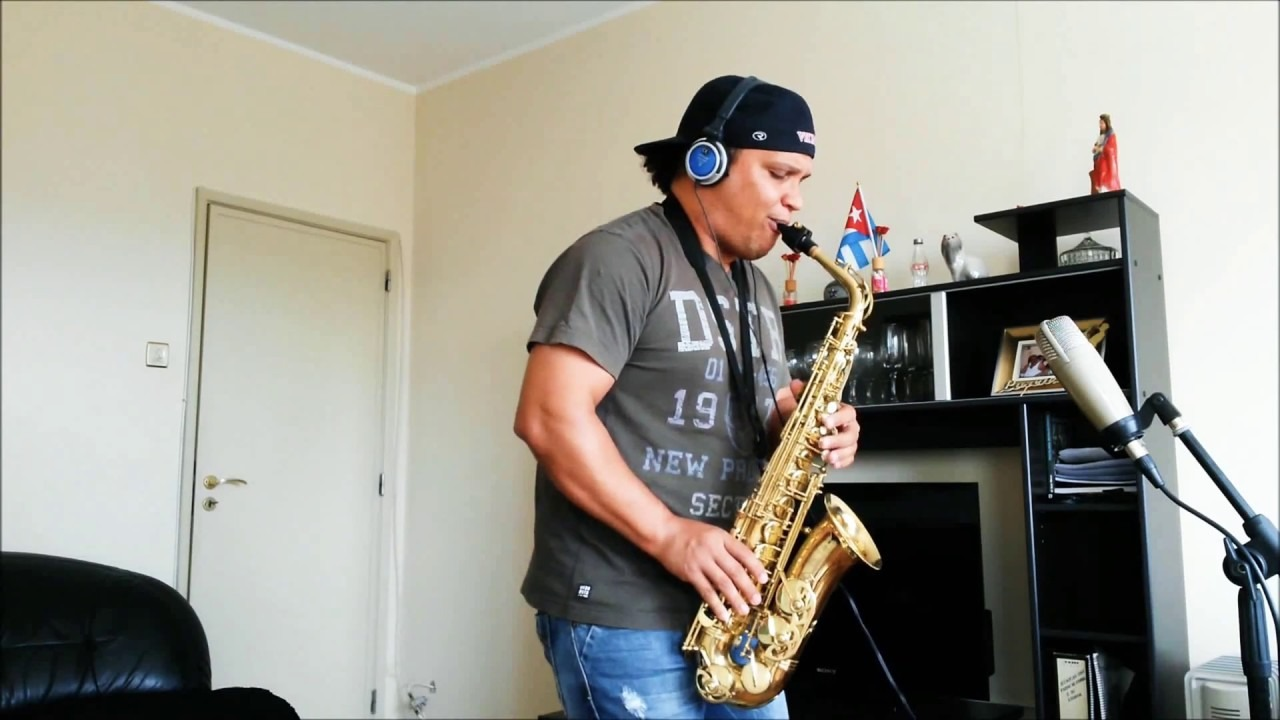Saxophone: (638, 187, 967, 720)
